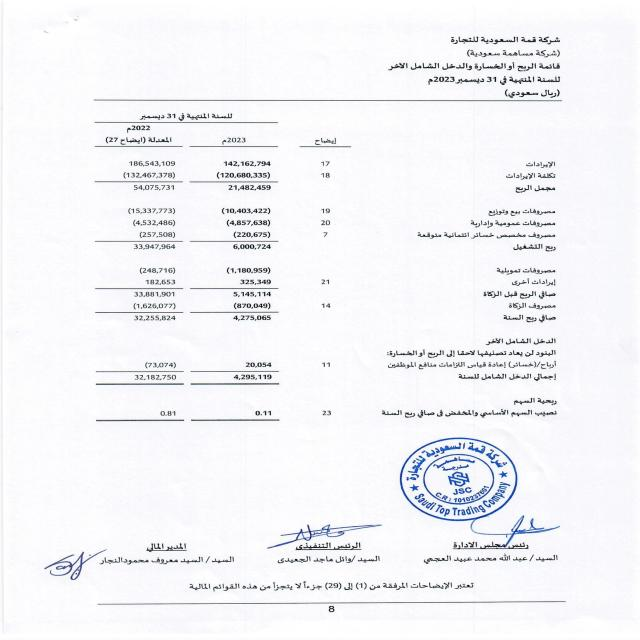financial_sheets: (385, 60, 565, 76)
table: (47, 105, 356, 444)
